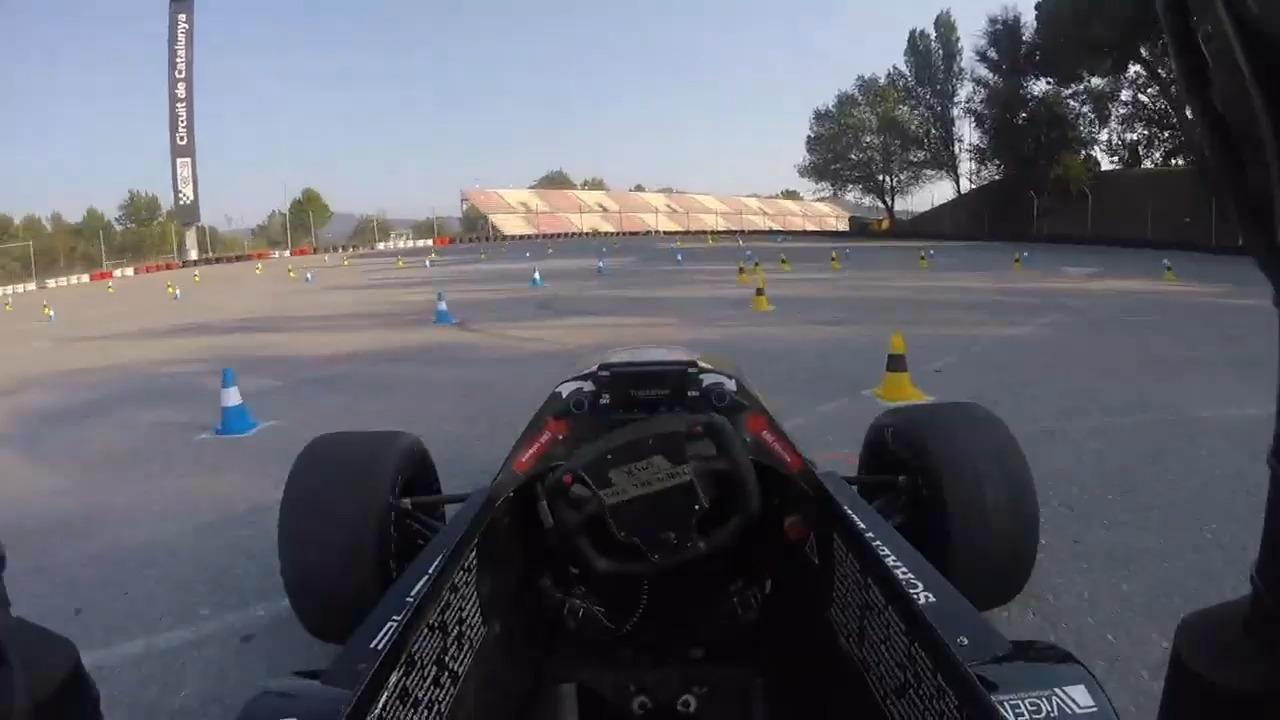blue_cone: (208, 364, 261, 439), (428, 289, 463, 331), (528, 264, 548, 291), (594, 255, 611, 279), (673, 250, 686, 268), (304, 270, 313, 286), (174, 286, 182, 302), (49, 307, 56, 323), (423, 257, 431, 270), (745, 245, 752, 258)
yellow_cone: (867, 328, 932, 403), (753, 277, 773, 315), (735, 259, 751, 287), (1164, 260, 1178, 283), (752, 257, 767, 278), (827, 249, 841, 271), (780, 254, 791, 276), (919, 251, 930, 270), (1012, 250, 1022, 270), (39, 297, 48, 316), (166, 279, 174, 296), (192, 269, 200, 286), (106, 281, 115, 295), (6, 298, 13, 313), (342, 255, 349, 267), (397, 255, 403, 267)
